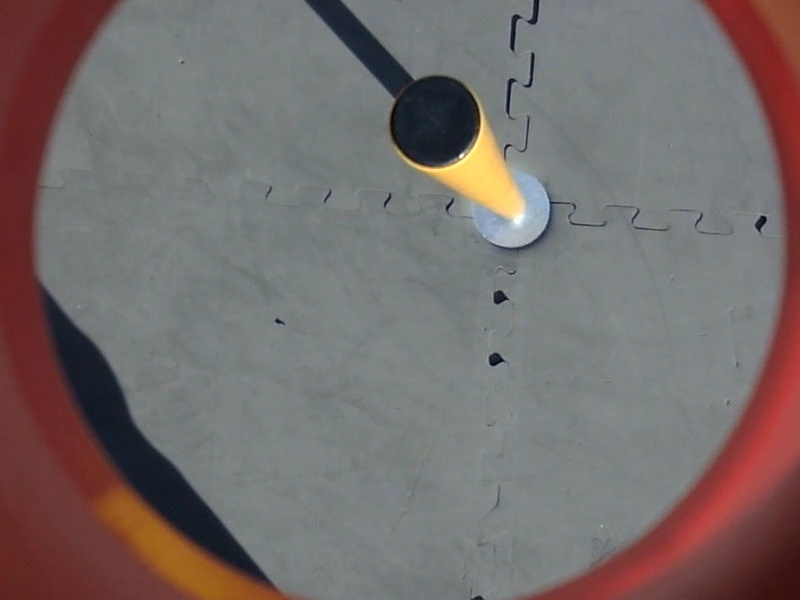tip: (383, 73, 490, 173)
